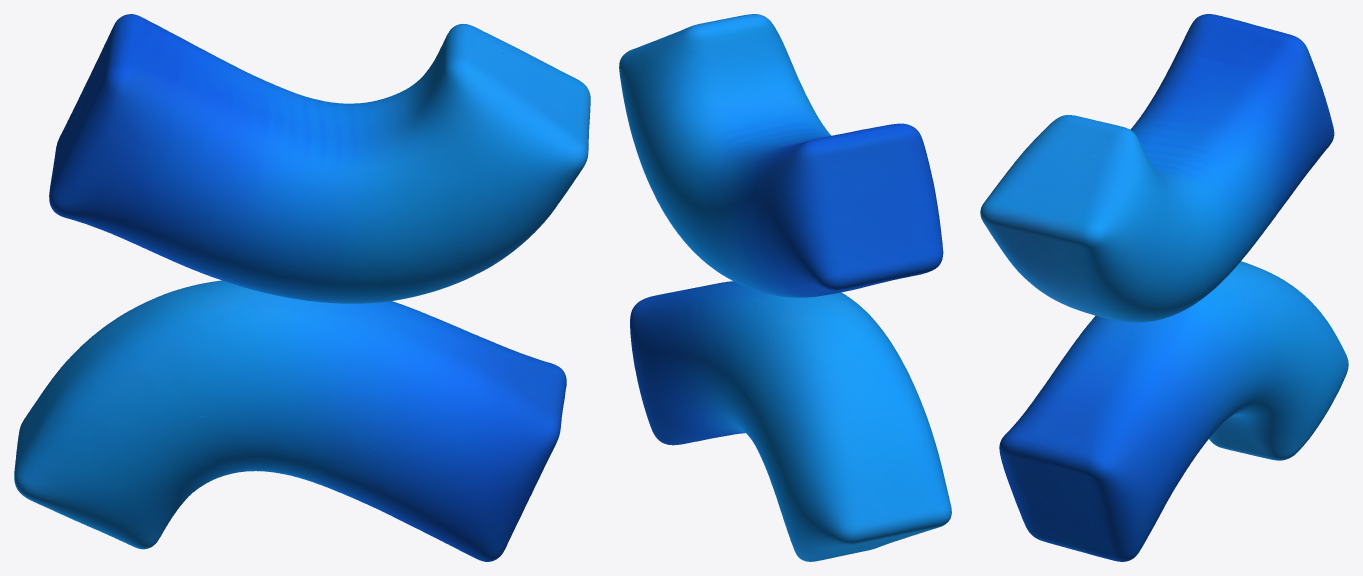
The model's file is confluence.glb.
3 views of the same model, side by side, from view 1: azimuth 30°, elevation 25°; view 2: azimuth 150°, elevation 25°; view 3: azimuth 270°, elevation 25° (orthographic). The views are drawn at different scales.
Visible parts, largest first — view 1: material.001; view 2: material.001; view 3: material.001.
Part boxes in pixels (x1,y1,x2,y2): material.001: (14, 14, 590, 561); material.001: (619, 14, 951, 561); material.001: (980, 14, 1348, 561).
Bounding box in the file's own units: 0.9273 × 0.9341 × 0.7338.
Materials: 1 (1 with a texture image).
